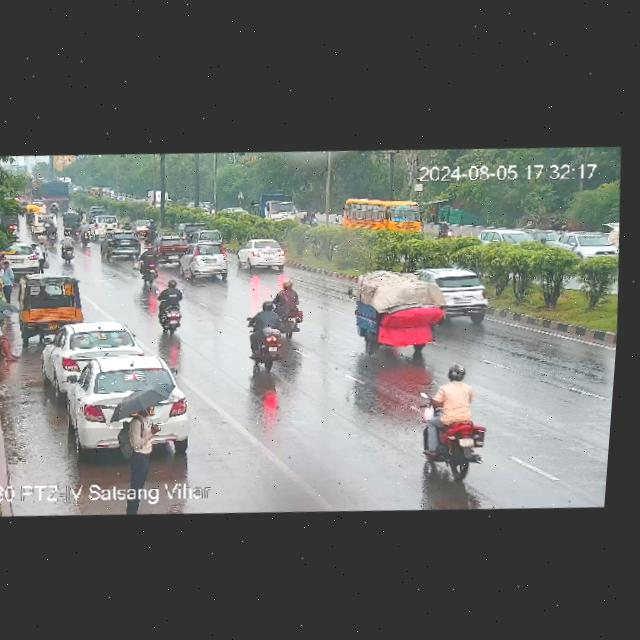bus: (333, 197, 428, 242)
car: (47, 353, 178, 462), (342, 262, 454, 360), (40, 317, 144, 387), (17, 274, 90, 338), (426, 262, 493, 324), (551, 225, 618, 261), (236, 236, 292, 273), (179, 252, 232, 283), (100, 227, 144, 260), (0, 243, 38, 276), (154, 235, 191, 262), (28, 211, 50, 238), (192, 228, 225, 244), (94, 213, 119, 234), (130, 218, 156, 237), (64, 211, 83, 230), (23, 201, 39, 214)
motorcycle: (412, 356, 487, 483), (242, 297, 285, 375), (152, 279, 192, 337), (271, 277, 307, 341), (134, 251, 163, 285), (59, 232, 76, 262), (76, 218, 92, 248), (46, 221, 60, 248), (439, 219, 455, 240), (71, 218, 81, 241), (311, 212, 319, 227), (125, 221, 130, 228)
person: (128, 402, 164, 486), (0, 310, 26, 367), (0, 260, 15, 301), (0, 301, 21, 330), (32, 242, 47, 271), (0, 254, 5, 272)
truck: (244, 191, 302, 224), (39, 176, 73, 211)
